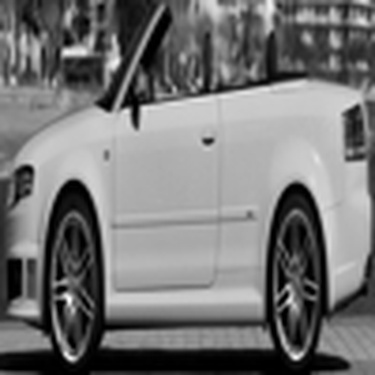car: (9, 9, 360, 352)
